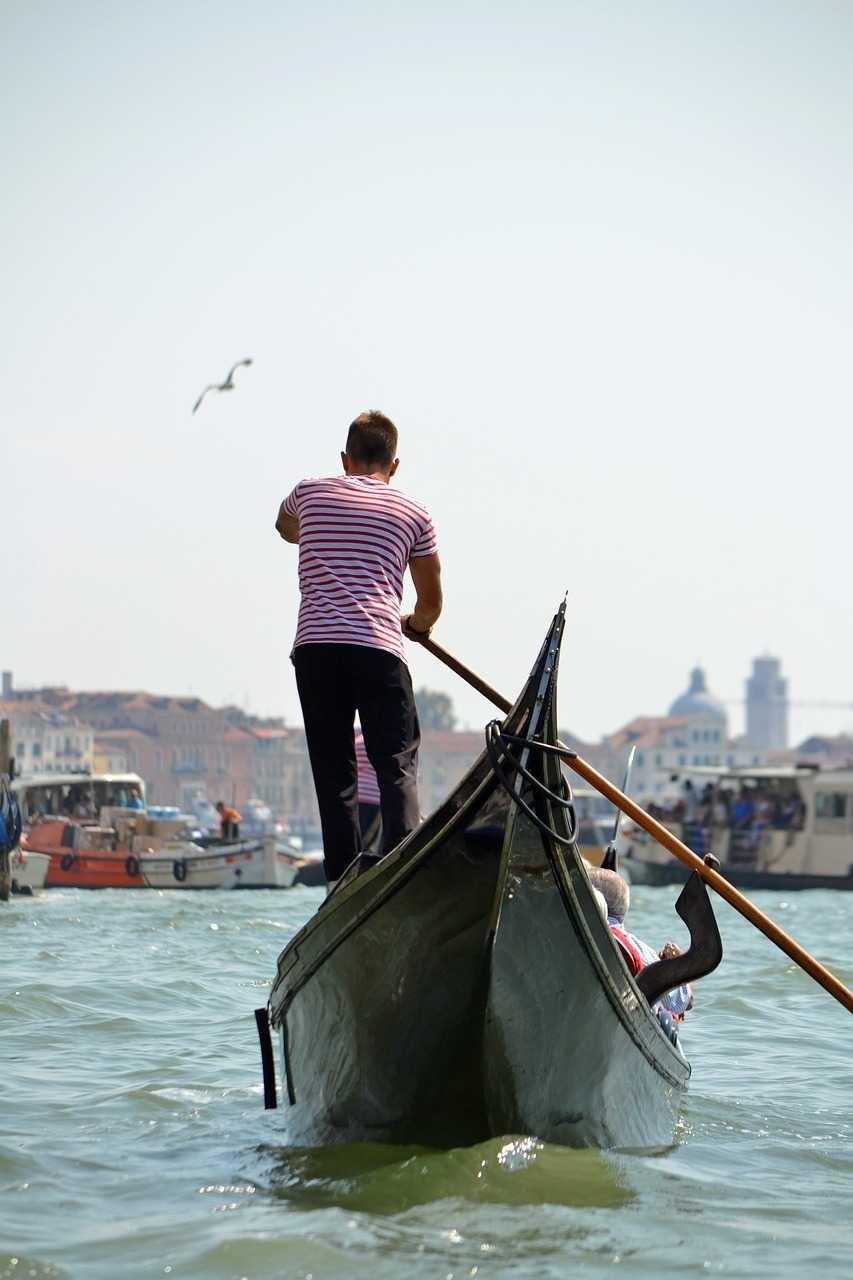kayak: (252, 587, 694, 1156), (12, 773, 241, 890), (671, 767, 852, 891), (19, 813, 164, 889), (126, 831, 302, 892), (8, 849, 51, 895)
